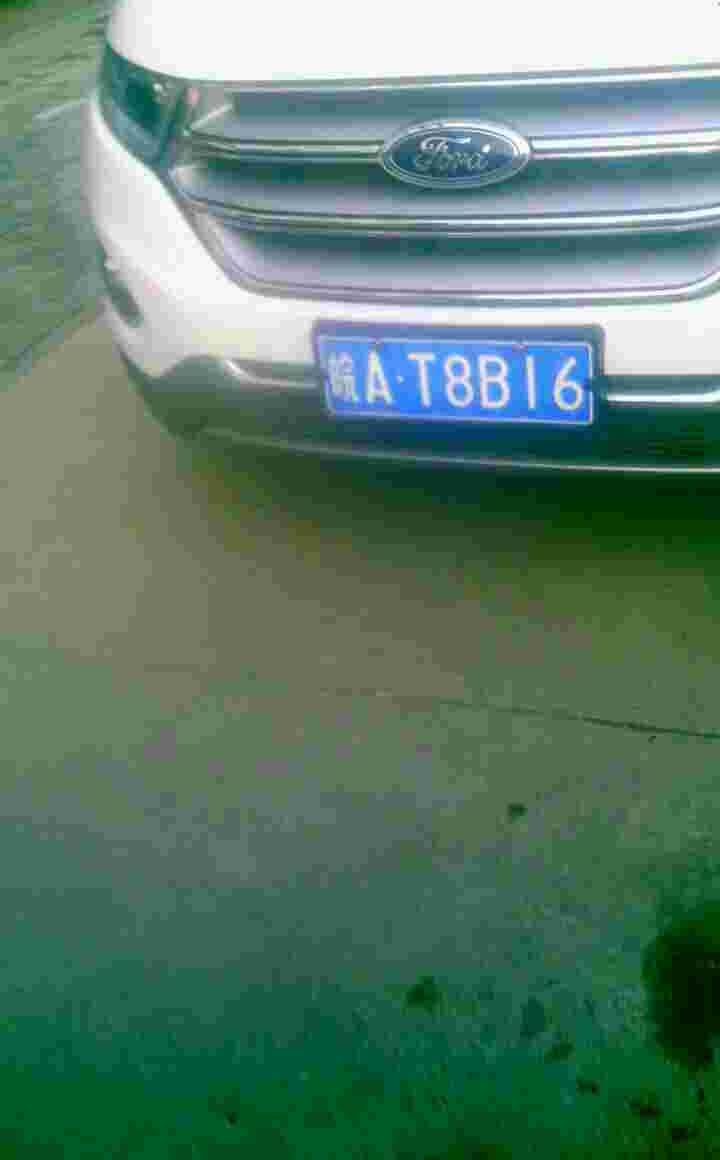plate: (313, 331, 602, 431)
